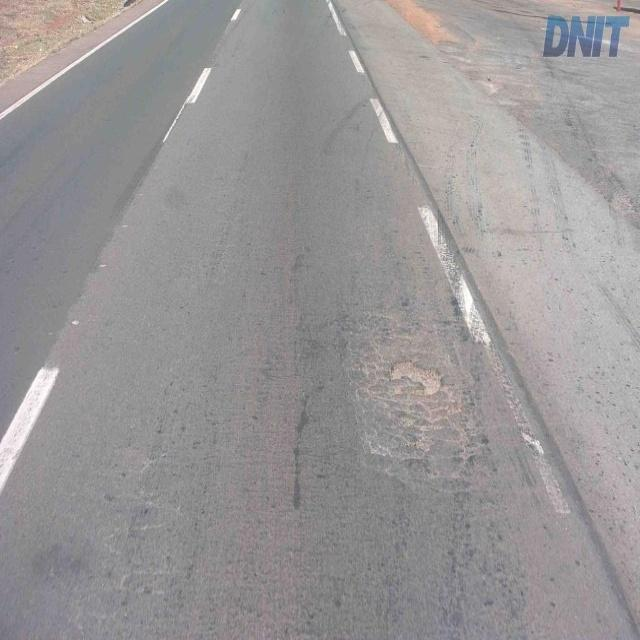pothole: (384, 356, 444, 396)
